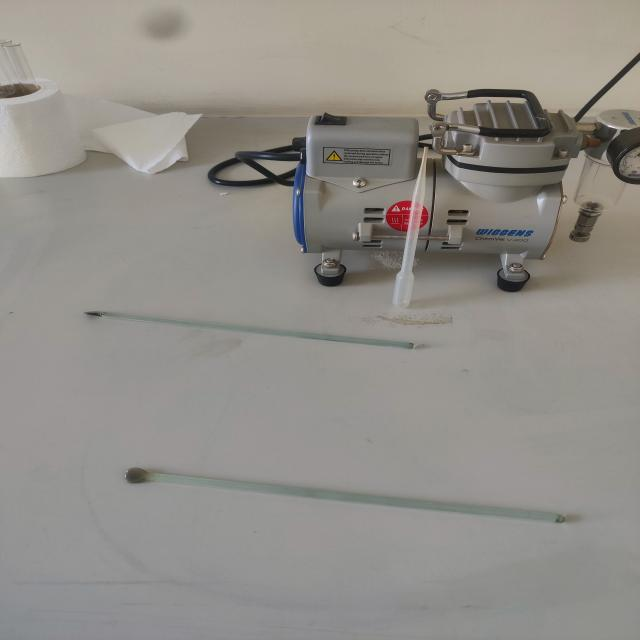Glass_Rod: (94, 448, 599, 568), (43, 293, 434, 388)
Pipette: (380, 127, 454, 316)
